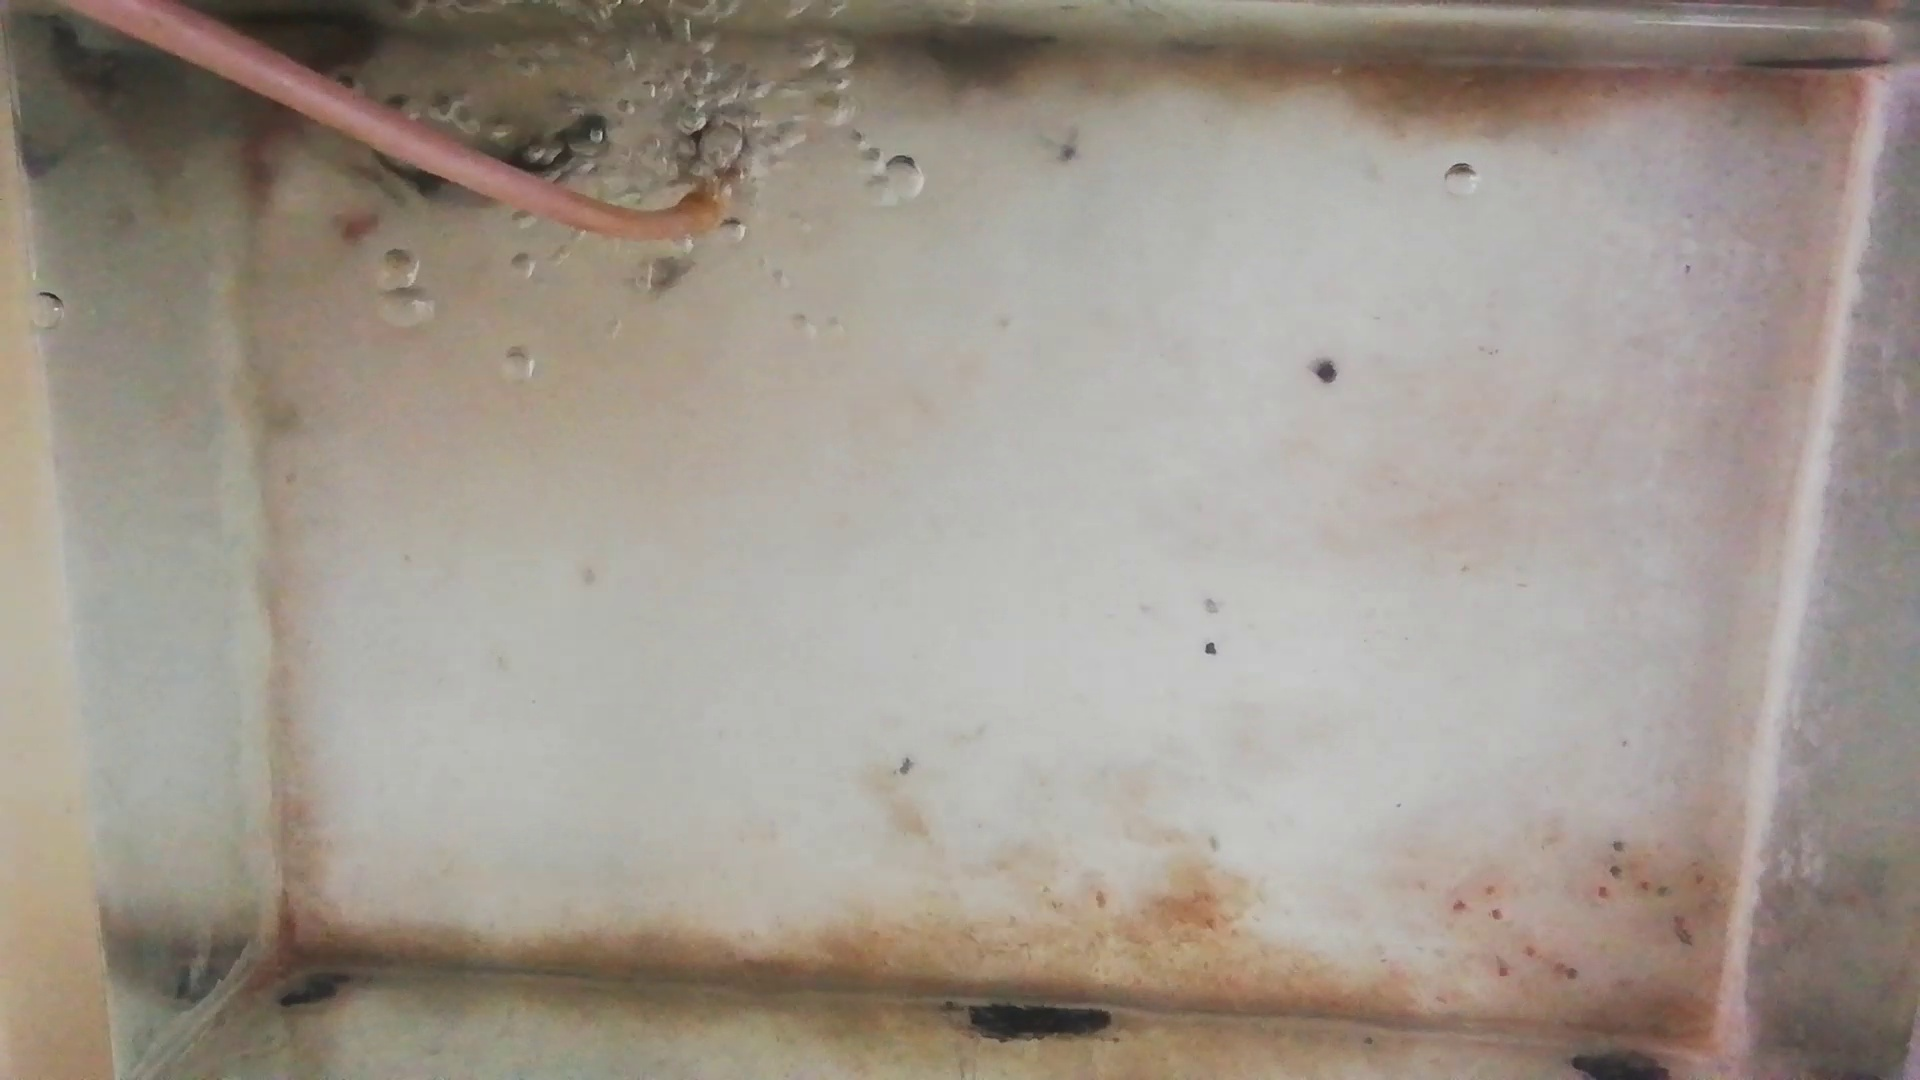fish: (389, 121, 609, 211), (243, 58, 351, 196)
